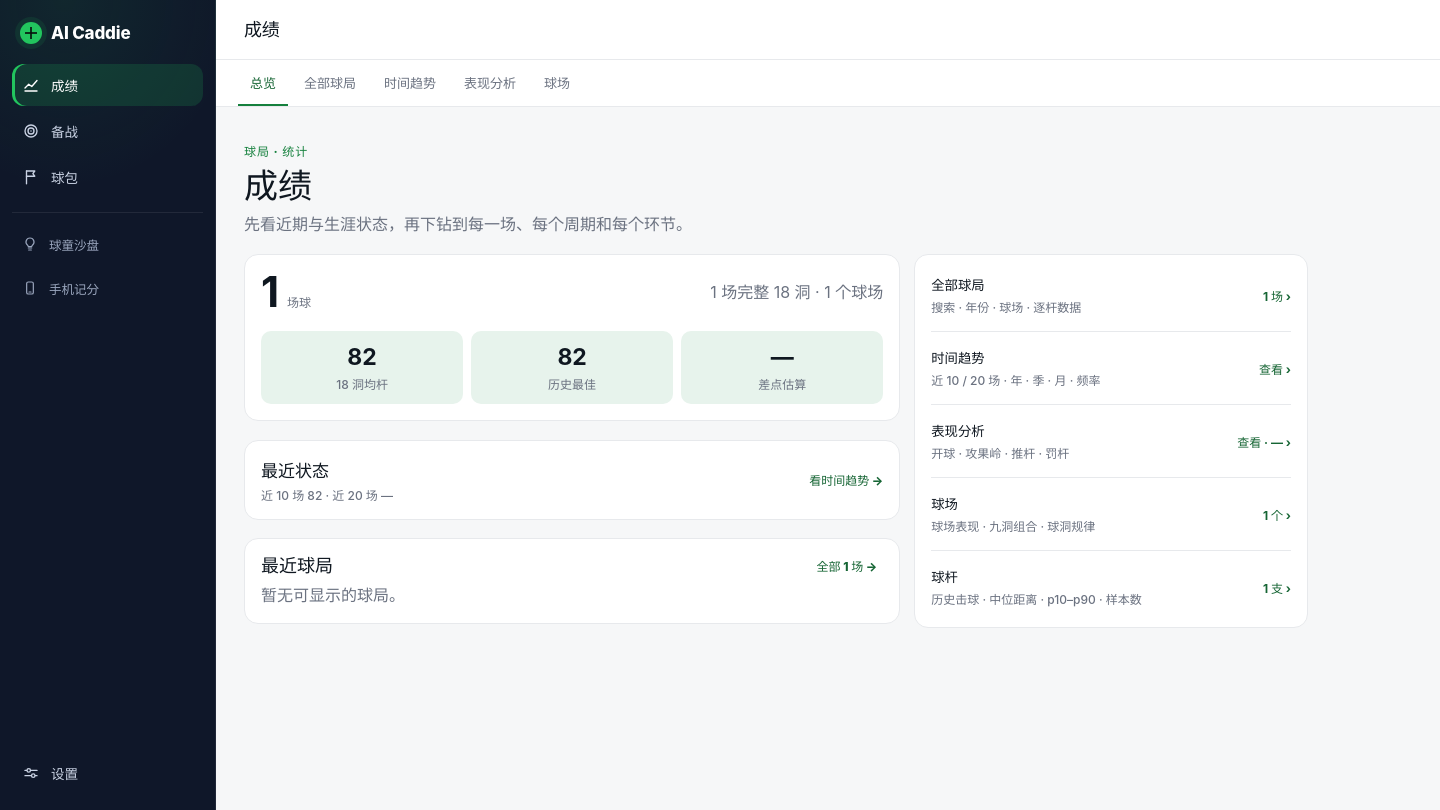
App navigation › 球场 tab renders 球场表现 heading
expect the 1st heading "成绩" is shown: met, box [244, 20, 280, 39]
Click the button "球场" at (557, 83), box [532, 60, 582, 106]
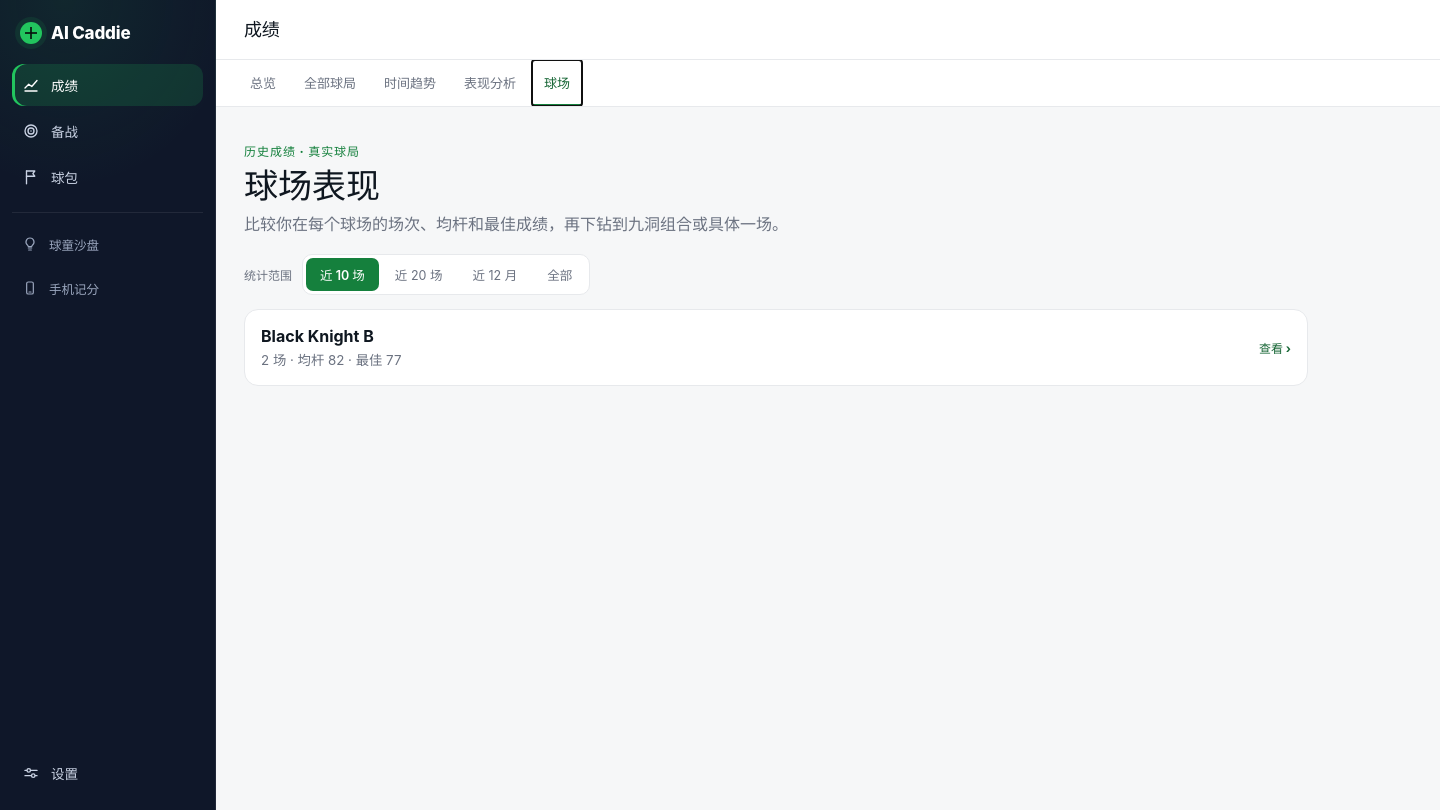
expect the heading "球场表现" is shown: met, box [244, 165, 380, 206]
expect the text "Black Knight B" is shown: met, box [261, 326, 374, 346]
